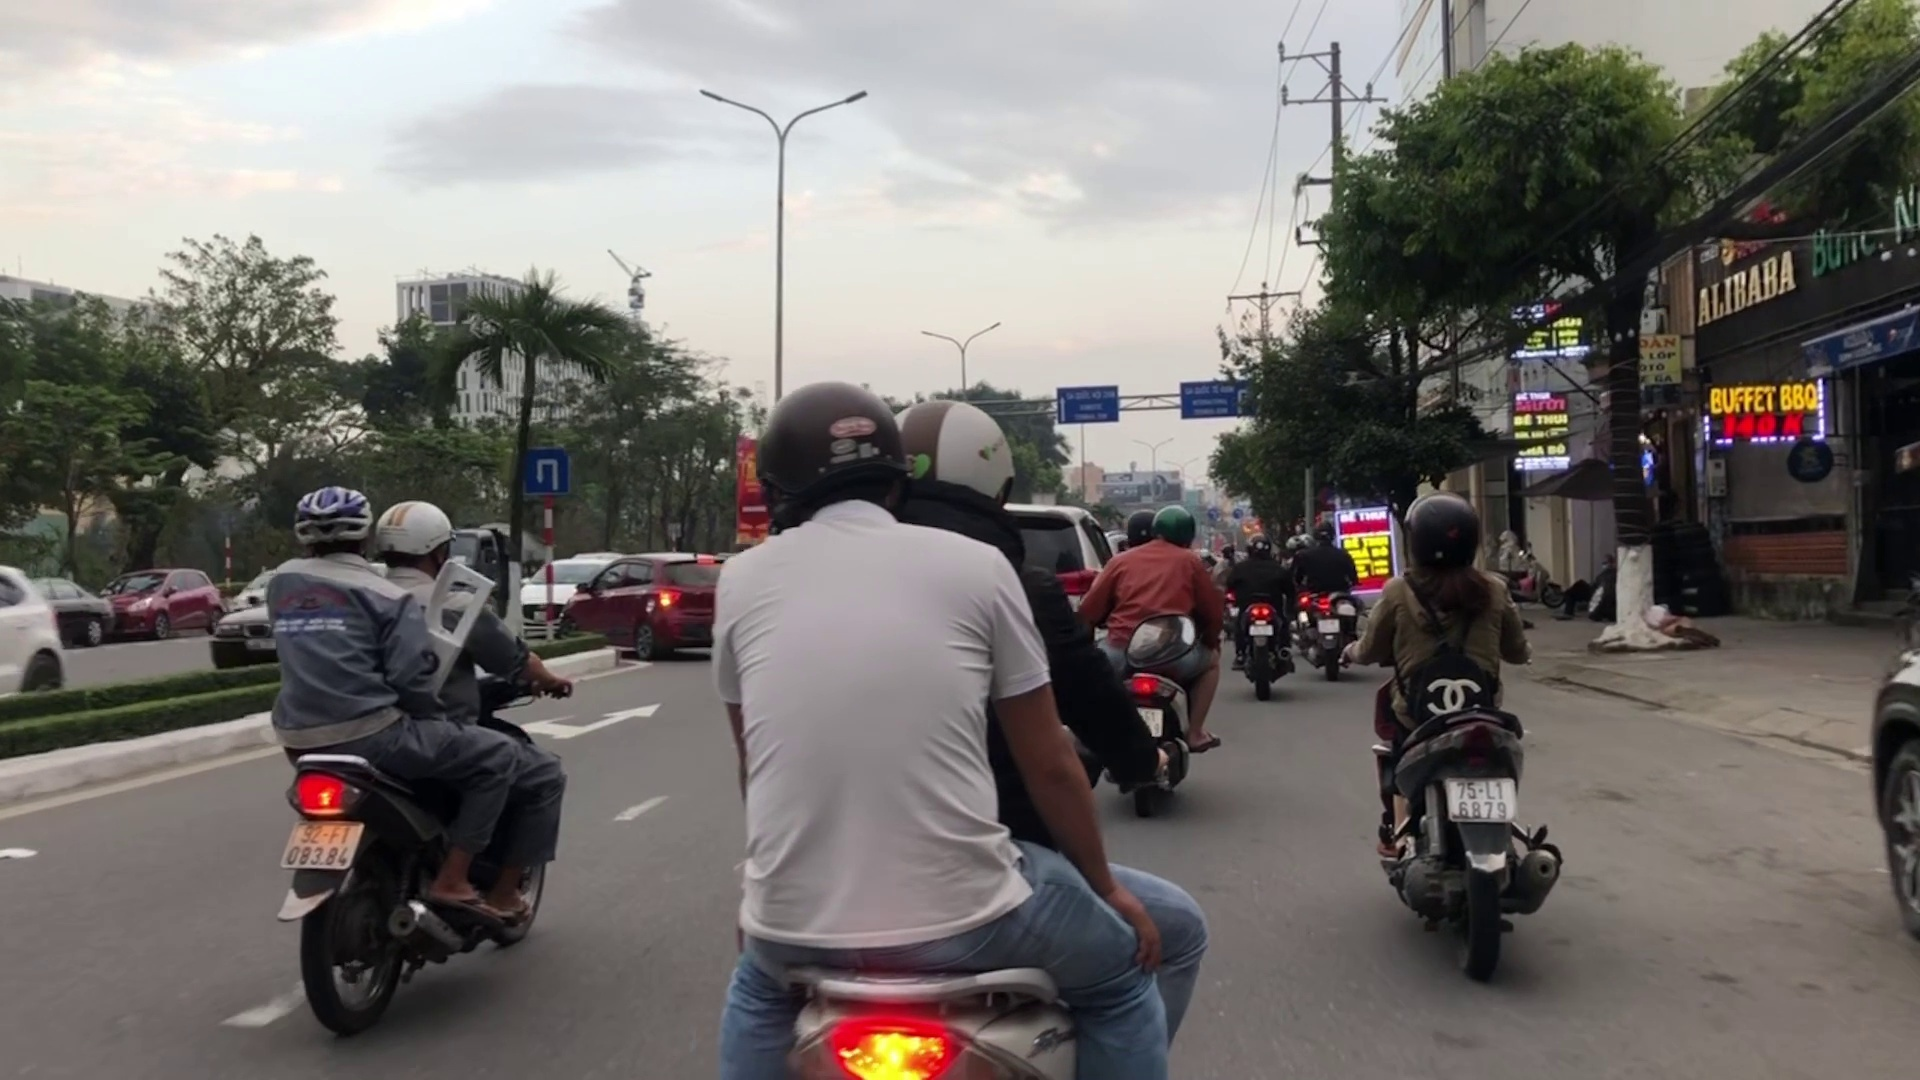Bien khac: (521, 448, 564, 497)
